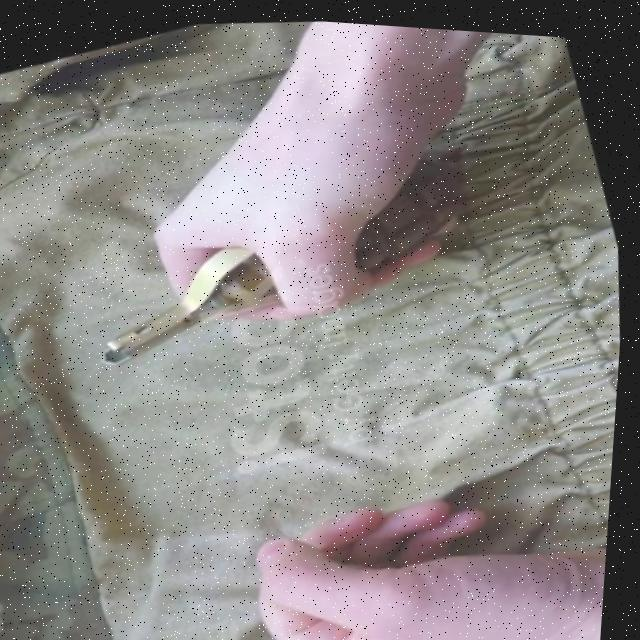grenade: (65, 120, 500, 385)
